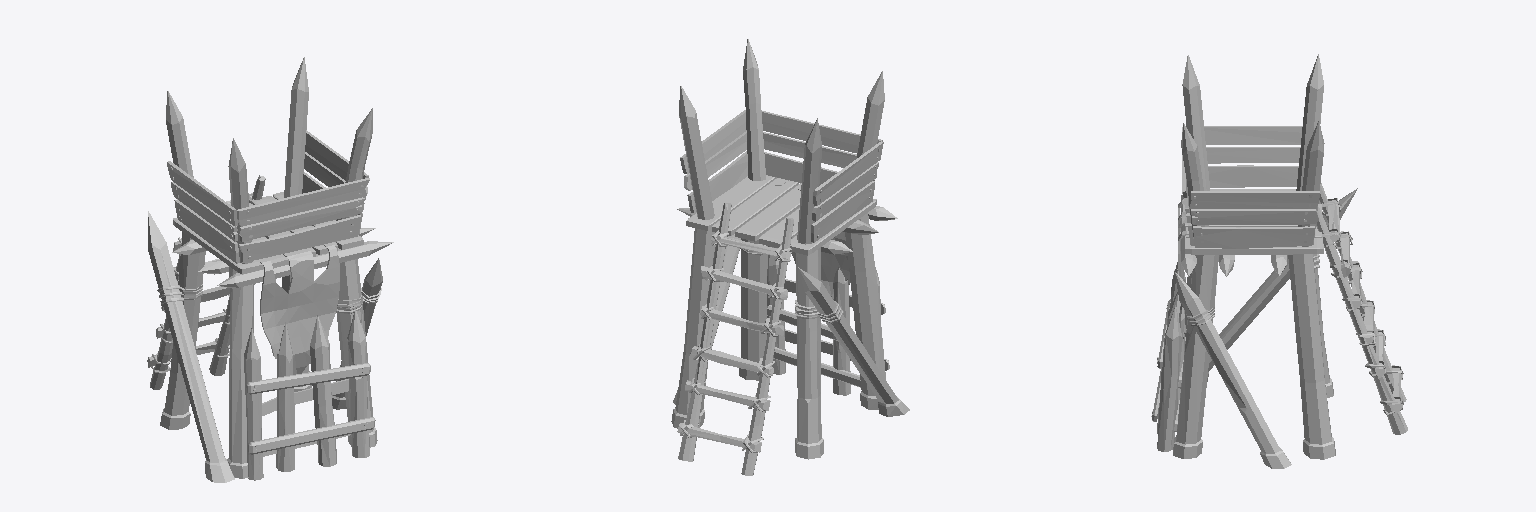
Rendered from Tower.obj.
The picture shows the model from 3 angles: view 1: azimuth 30°, elevation 25°; view 2: azimuth 150°, elevation 25°; view 3: azimuth 270°, elevation 25°; orthographic projection.
Parts seen in each view (by area): view 1: Tower; view 2: Tower; view 3: Tower.
Part boxes in pixels (bbox=[...]): Tower: bbox=[147, 57, 393, 482]; Tower: bbox=[671, 39, 909, 475]; Tower: bbox=[1151, 54, 1407, 468].
Bounding box in the file's own units: 2.48 × 4.31 × 2.97.